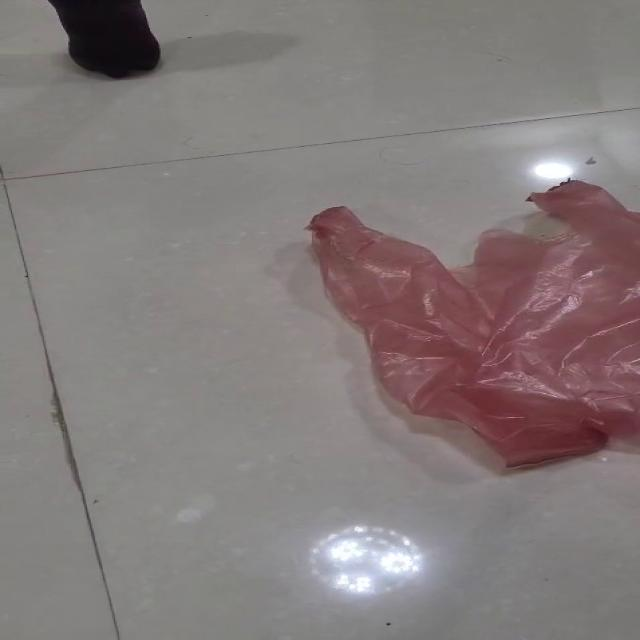plastic: (302, 178, 638, 469)
